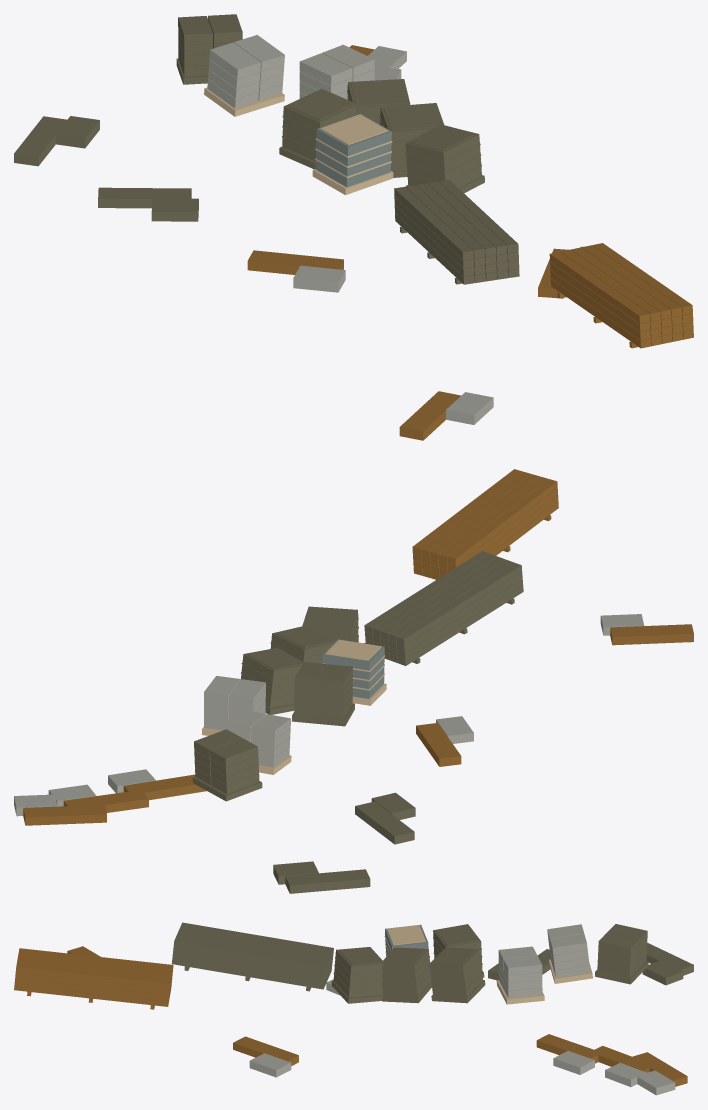
File: SM_CargaMateriales_Destrozado_LOD0.fbx
3 views of the same model, one above another, from view 1: azimuth 30°, elevation 25°; view 2: azimuth 150°, elevation 25°; view 3: azimuth 270°, elevation 25° (orthographic). The views are drawn at different scales.
Parts seen in each view (by area): view 1: SM_carga_vagon_v14_LOD0; view 2: SM_carga_vagon_v14_LOD0; view 3: SM_carga_vagon_v14_LOD0.
Part boxes in pixels (box(x1,y1,x2,y2)): SM_carga_vagon_v14_LOD0: box(14, 14, 693, 440); SM_carga_vagon_v14_LOD0: box(14, 469, 693, 893); SM_carga_vagon_v14_LOD0: box(14, 922, 693, 1095).
Size of the model in its own units: 8.9 by 2.34 by 17.54.
